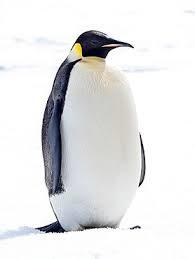king: (22, 20, 159, 247)
